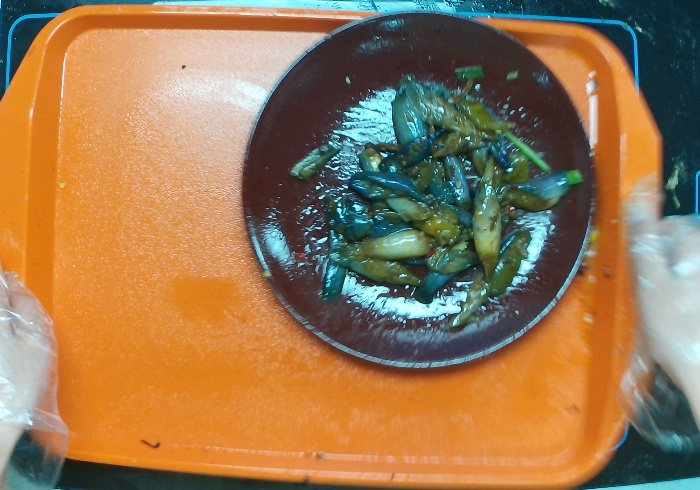HZYJPL-Ka_Fei_Yuan_Pan: (238, 7, 597, 373)
